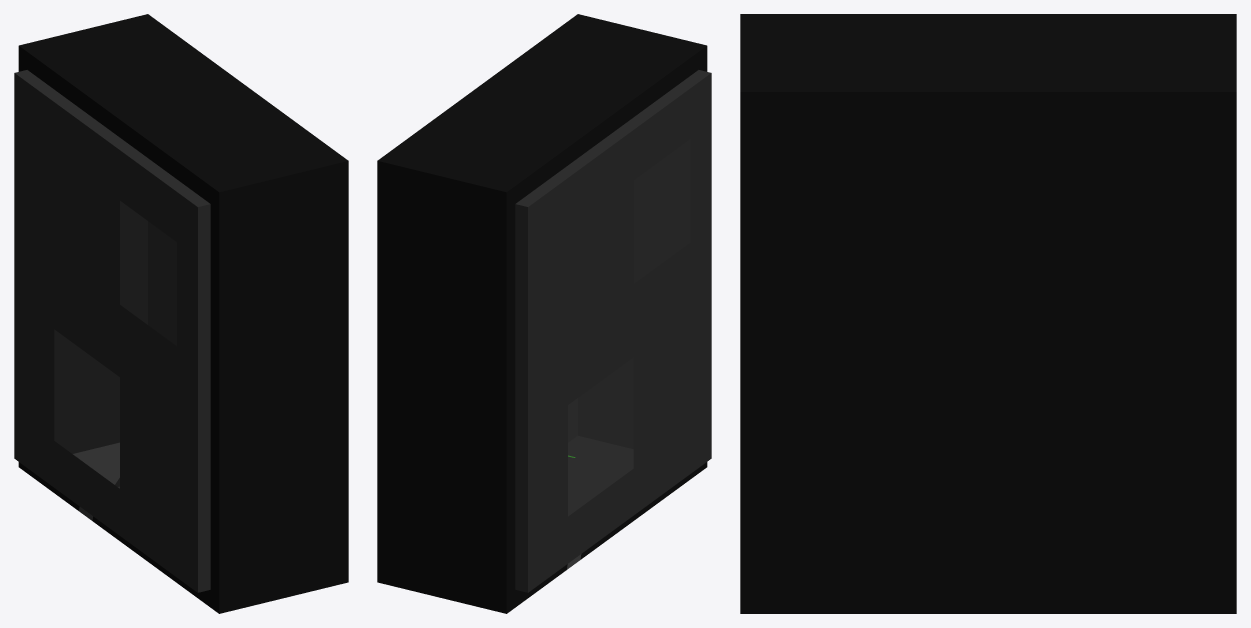
3 renders of one model, left to right at view 1: azimuth 30°, elevation 25°; view 2: azimuth 150°, elevation 25°; view 3: azimuth 270°, elevation 25°, orthographic. The views are drawn at different scales.
Visible parts, largest first — view 1: Cube, Cube.001, Cube.008, Cube.007, Cube.005; view 2: Cube, Cube.001, Cube.008, Cube.007; view 3: Cube.
Boxes of the visible parts, x1,y1,x2,y2 form: Cube: (18, 14, 348, 613); Cube.001: (14, 70, 210, 592); Cube.008: (55, 331, 119, 487); Cube.007: (120, 201, 176, 345); Cube.005: (73, 442, 119, 484); Cube: (377, 14, 707, 613); Cube.001: (515, 70, 711, 592); Cube.008: (568, 358, 632, 515); Cube.007: (634, 140, 689, 282); Cube: (740, 14, 1236, 613).
Bounding box in the file's own units: 0.307 × 0.8987 × 0.75.
Materials: 2 (1 with a texture image).
